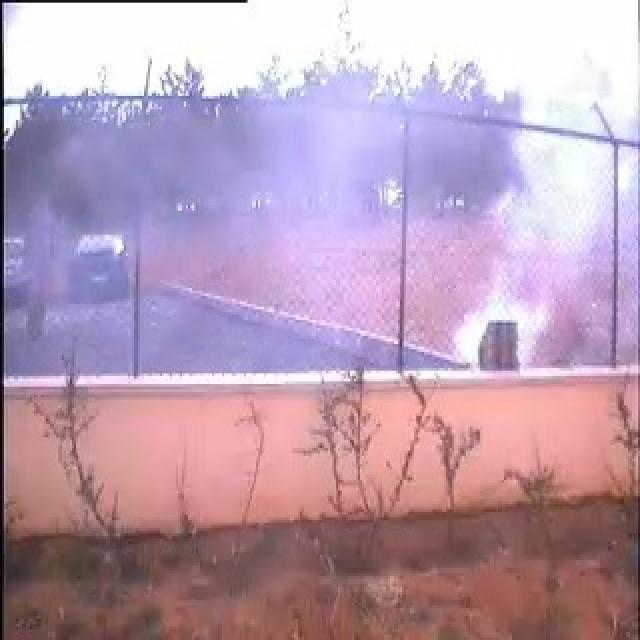Smoke: (444, 101, 610, 371)
